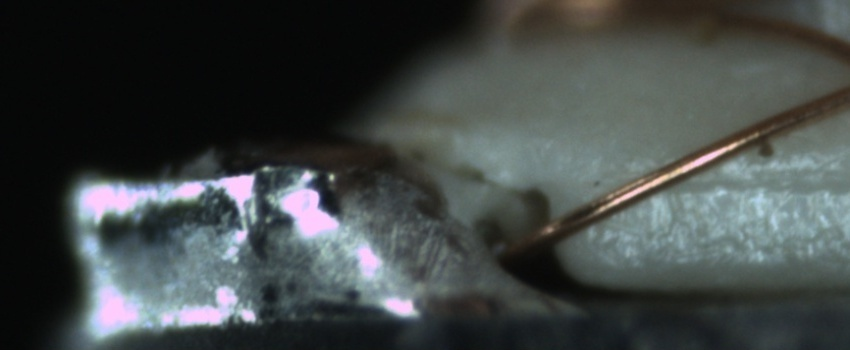DL: (677, 145, 848, 213)
